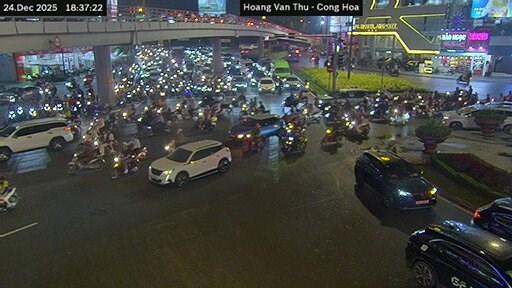motorbike: (112, 147, 146, 178), (67, 153, 105, 174), (281, 136, 306, 156), (240, 135, 265, 153), (0, 187, 18, 211), (368, 104, 389, 121), (320, 128, 341, 145), (389, 108, 409, 125), (457, 73, 470, 84), (389, 67, 399, 76)
